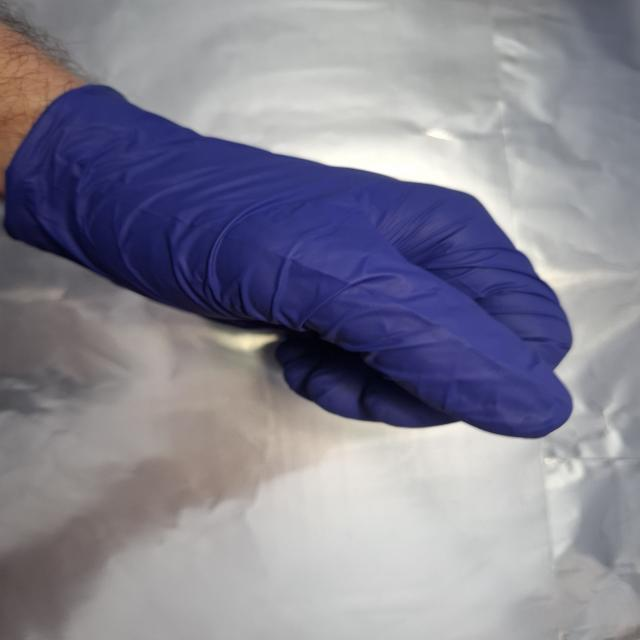glove_on: (7, 86, 581, 442)
